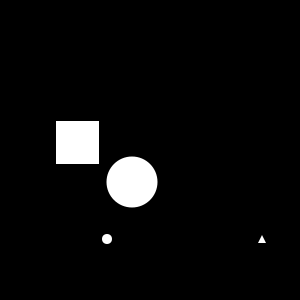circle: (56, 121, 99, 164)
rectangle: (106, 157, 158, 208), (102, 234, 112, 244)
triangle: (258, 235, 266, 243)
